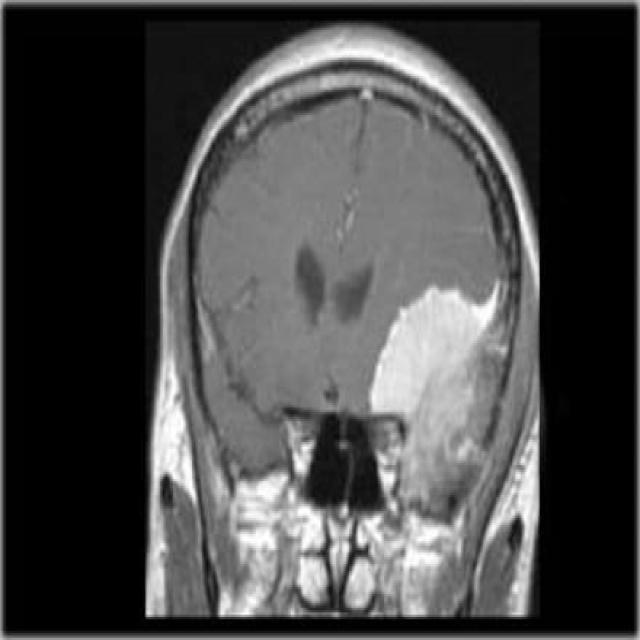meningioma: (369, 288, 496, 523)
